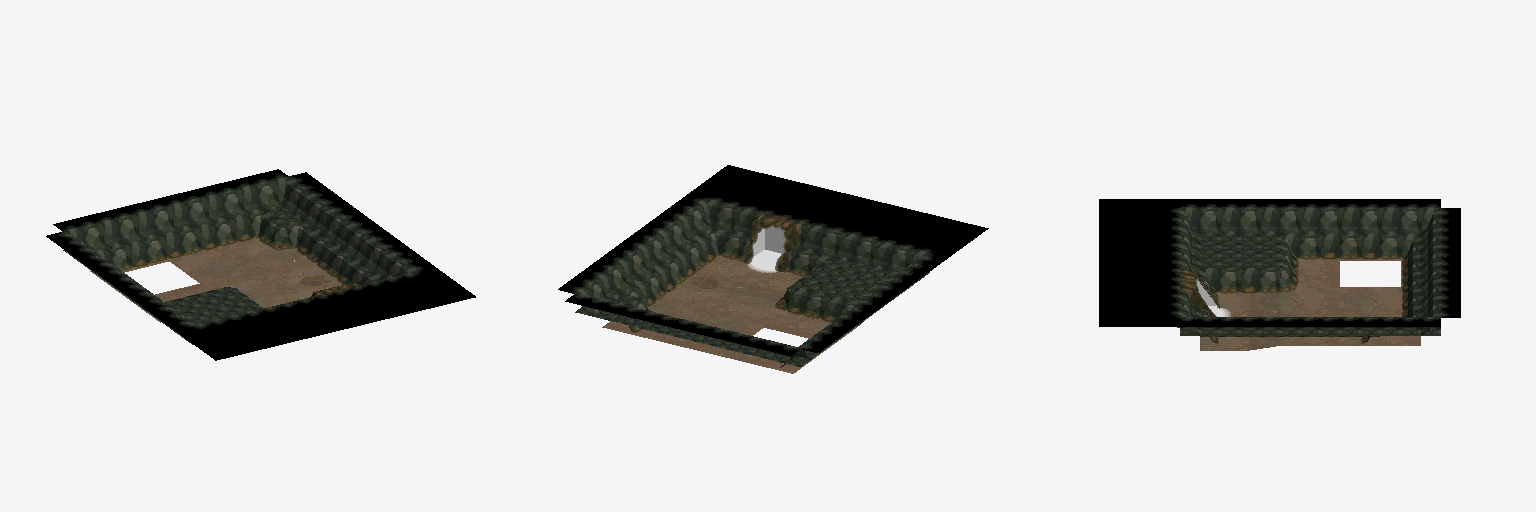
3 renders of one model, left to right at view 1: azimuth 30°, elevation 25°; view 2: azimuth 150°, elevation 25°; view 3: azimuth 270°, elevation 25°, orthographic.
Parts seen in each view (by area): view 1: polygon8, polygon7, polygon10, polygon5, polygon9, polygon6; view 2: polygon8, polygon7, polygon10, polygon5, polygon9, polygon6, polygon4, polygon3; view 3: polygon8, polygon7, polygon10, polygon5, polygon9, polygon6, polygon4.
Boxes of the visible parts, x1=… form: polygon8: x1=46, y1=169, x2=475, y2=360; polygon7: x1=72, y1=183, x2=407, y2=284; polygon10: x1=90, y1=238, x2=341, y2=322; polygon5: x1=63, y1=176, x2=418, y2=326; polygon9: x1=63, y1=206, x2=300, y2=344; polygon6: x1=116, y1=231, x2=351, y2=284; polygon8: x1=558, y1=165, x2=988, y2=356; polygon7: x1=584, y1=205, x2=921, y2=365; polygon10: x1=602, y1=256, x2=862, y2=373; polygon5: x1=575, y1=199, x2=930, y2=348; polygon9: x1=575, y1=258, x2=929, y2=366; polygon6: x1=631, y1=242, x2=836, y2=367; polygon4: x1=744, y1=213, x2=802, y2=271; polygon3: x1=747, y1=226, x2=784, y2=272; polygon8: x1=1099, y1=199, x2=1460, y2=326; polygon7: x1=1180, y1=213, x2=1440, y2=339; polygon10: x1=1200, y1=258, x2=1420, y2=350; polygon5: x1=1180, y1=208, x2=1440, y2=317; polygon9: x1=1180, y1=234, x2=1440, y2=335; polygon6: x1=1200, y1=253, x2=1407, y2=343; polygon4: x1=1177, y1=270, x2=1219, y2=327.
Bounding box in the file's own units: 7.5 × 2.62 × 9.
Materials: 11 (11 with a texture image).